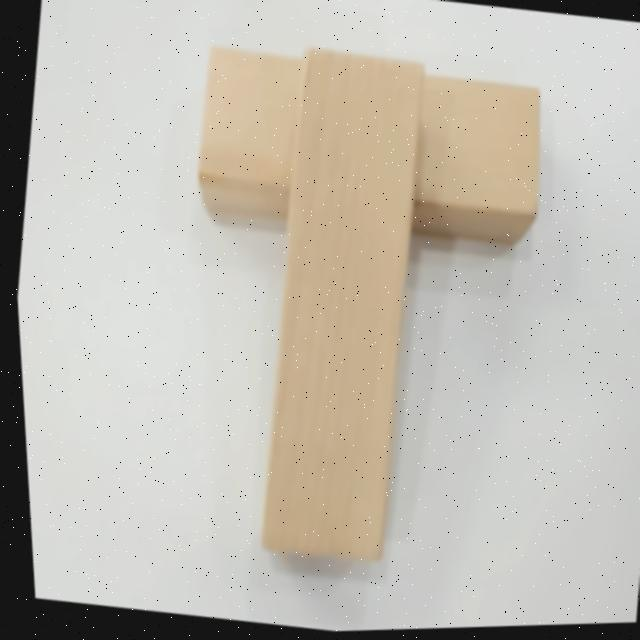Jenga: (224, 41, 451, 576), (181, 31, 558, 273)
